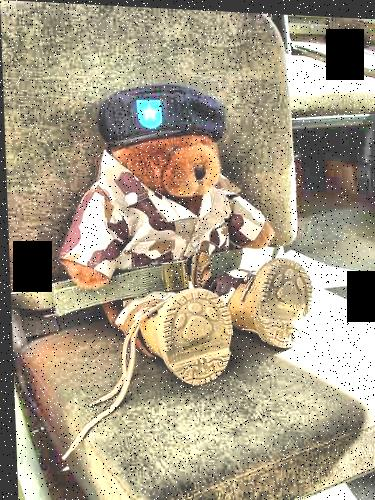seatbelt: (18, 231, 323, 314)
